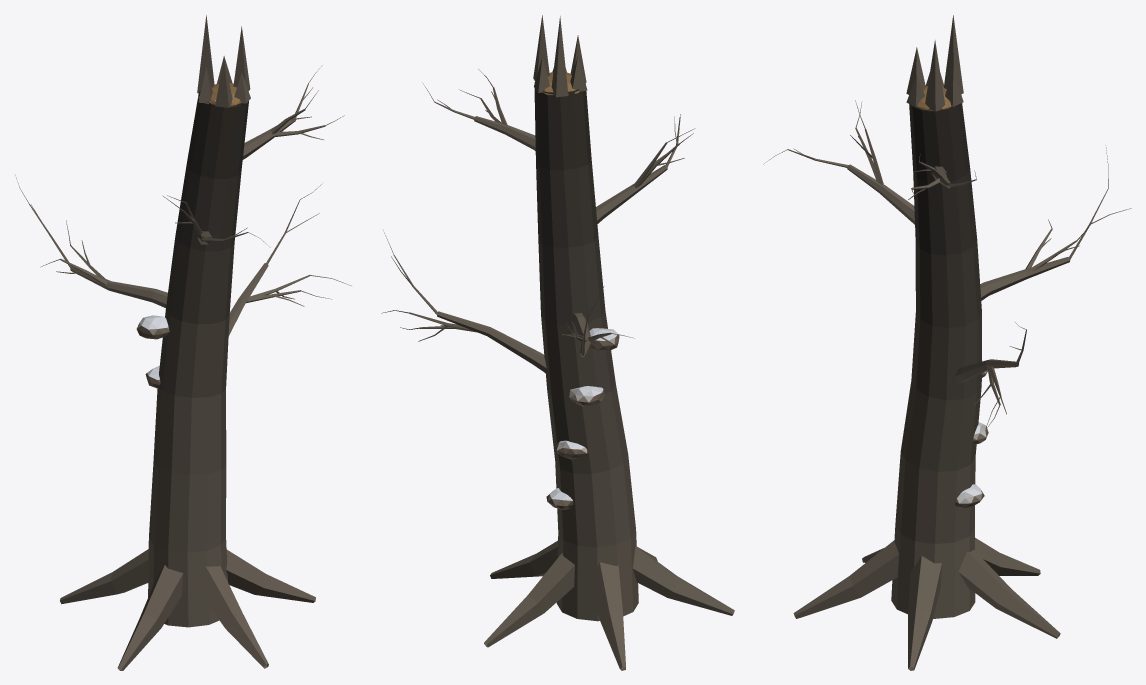
Rendered from tree_dead_snag.glb.
The picture shows the model from 3 angles, left to right: view 1: azimuth 30°, elevation 25°; view 2: azimuth 150°, elevation 25°; view 3: azimuth 270°, elevation 25°; orthographic projection. The views are drawn at different scales.
Parts seen in each view (by area): view 1: tree_dead_snag; view 2: tree_dead_snag; view 3: tree_dead_snag.
Part boxes in pixels (bbox=[...]): tree_dead_snag: bbox=[15, 15, 351, 670]; tree_dead_snag: bbox=[381, 15, 734, 670]; tree_dead_snag: bbox=[763, 15, 1131, 670].
Bounding box in the file's own units: 3.31 × 6.44 × 3.51.
